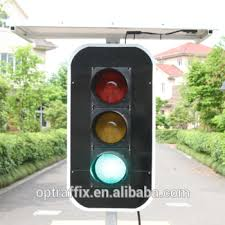green: (64, 39, 159, 215), (84, 60, 135, 194), (92, 67, 128, 188)
